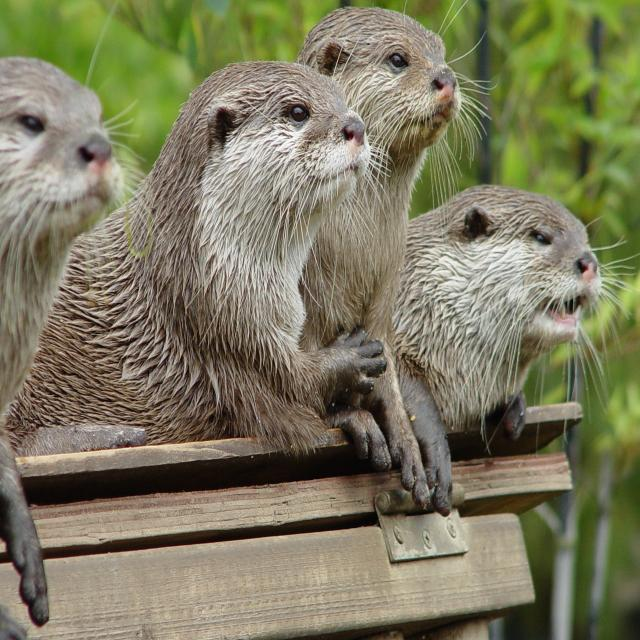otter: (89, 67, 376, 428), (299, 6, 462, 488), (396, 189, 600, 440), (1, 56, 119, 420)
